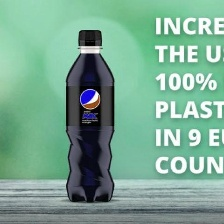bottle: (56, 24, 119, 208)
